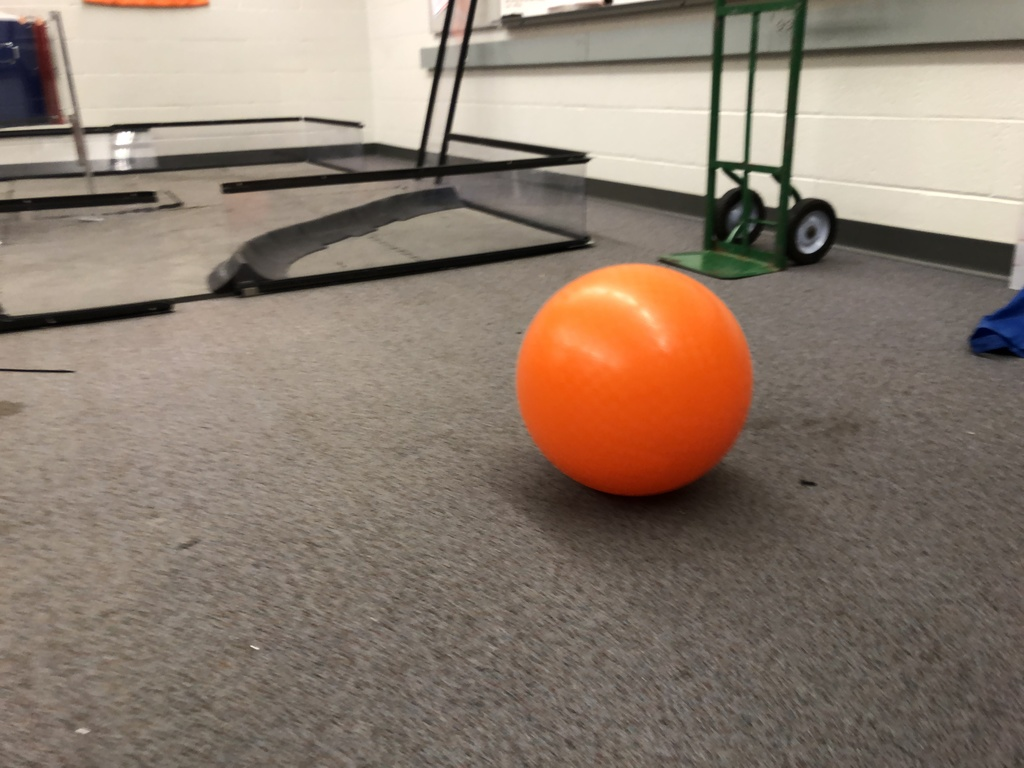cargo: (512, 257, 758, 510)
